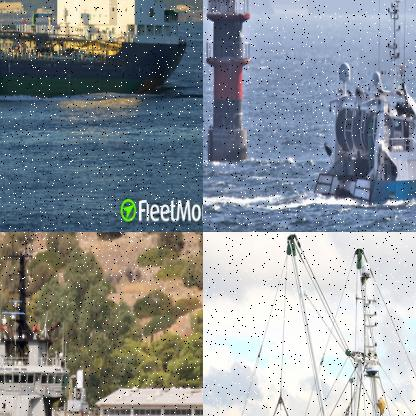Fishing Boat: (203, 232, 415, 415), (313, 0, 415, 209)
Merchant Ship: (0, 0, 189, 98)
Military Ship: (0, 235, 202, 415)
